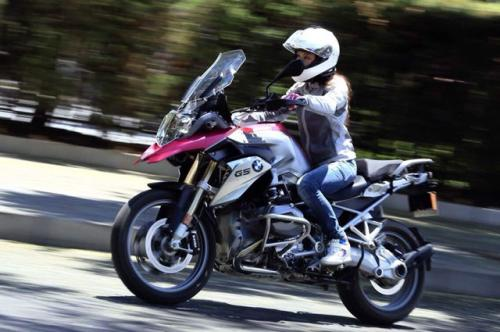motor: (110, 46, 434, 327)
